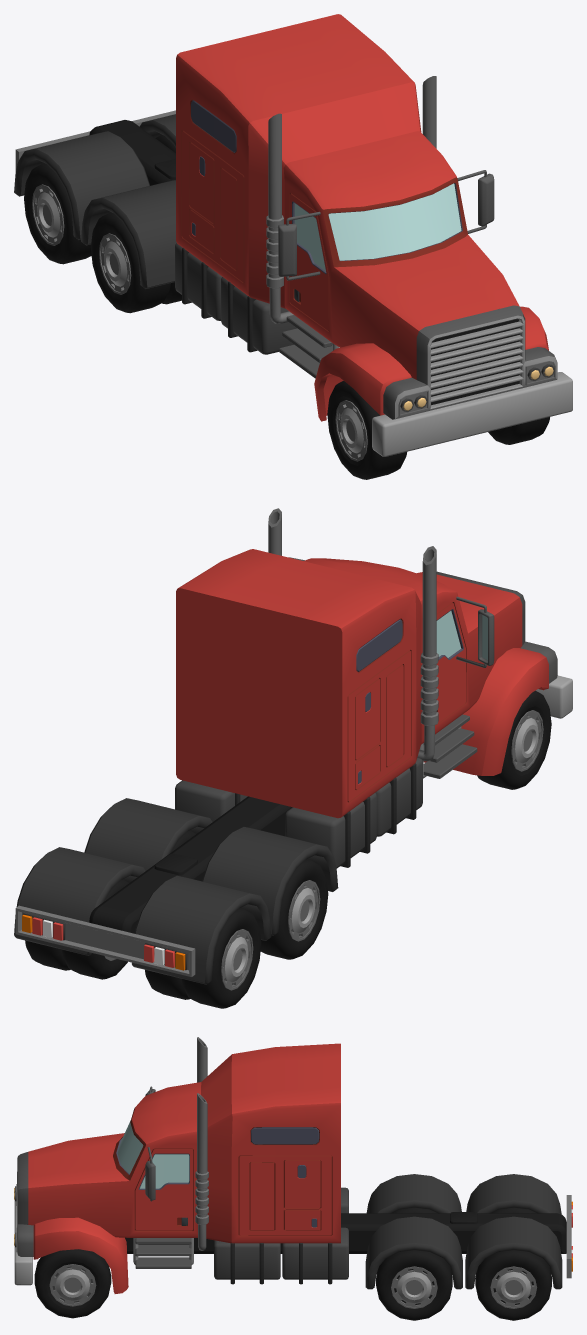
The model's file is SM_Vehicles_Truck_02_V1.fbx.
3 renders of one model, top to bottom at view 1: azimuth 30°, elevation 25°; view 2: azimuth 150°, elevation 25°; view 3: azimuth 270°, elevation 25°, orthographic. The views are drawn at different scales.
Parts seen in each view (by area): view 1: SM_Vehicles_Truck_02_V1, SM_Vehicles_Truck_02_RR2, SM_Vehicles_Truck_02_FR, SM_Vehicles_Truck_02_RR3, SM_Vehicles_Truck_02_FL; view 2: SM_Vehicles_Truck_02_V1, SM_Vehicles_Truck_02_RR3, SM_Vehicles_Truck_02_RR2, SM_Vehicles_Truck_02_FR, SM_Vehicles_Truck_02_RL3; view 3: SM_Vehicles_Truck_02_V1, SM_Vehicles_Truck_02_RL2, SM_Vehicles_Truck_02_RL3, SM_Vehicles_Truck_02_FL.
Boxes of the visible parts, x1=… form: SM_Vehicles_Truck_02_V1: x1=14, y1=14, x2=572, y2=456; SM_Vehicles_Truck_02_RR2: x1=91, y1=212, x2=181, y2=313; SM_Vehicles_Truck_02_FR: x1=327, y1=381, x2=406, y2=479; SM_Vehicles_Truck_02_RR3: x1=24, y1=163, x2=91, y2=264; SM_Vehicles_Truck_02_FL: x1=488, y1=417, x2=549, y2=444; SM_Vehicles_Truck_02_V1: x1=14, y1=508, x2=572, y2=984; SM_Vehicles_Truck_02_RR3: x1=145, y1=908, x2=261, y2=1008; SM_Vehicles_Truck_02_RR2: x1=260, y1=859, x2=328, y2=959; SM_Vehicles_Truck_02_FR: x1=477, y1=690, x2=551, y2=789; SM_Vehicles_Truck_02_RL3: x1=25, y1=879, x2=129, y2=979; SM_Vehicles_Truck_02_V1: x1=14, y1=1037, x2=572, y2=1293; SM_Vehicles_Truck_02_RL2: x1=376, y1=1250, x2=452, y2=1320; SM_Vehicles_Truck_02_RL3: x1=475, y1=1250, x2=551, y2=1320; SM_Vehicles_Truck_02_FL: x1=34, y1=1249, x2=111, y2=1318.
Size of the model in its own units: 2.33 by 3.12 by 7.09.
